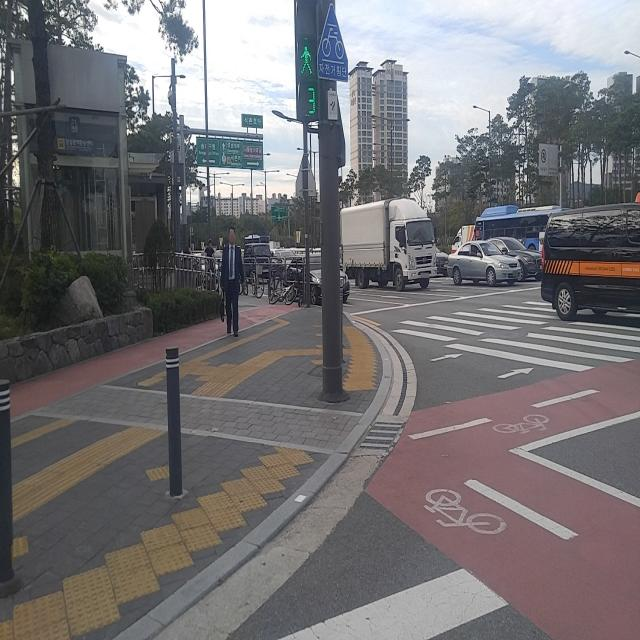초록불: (294, 0, 321, 123)
횡단보도: (385, 292, 640, 385)
